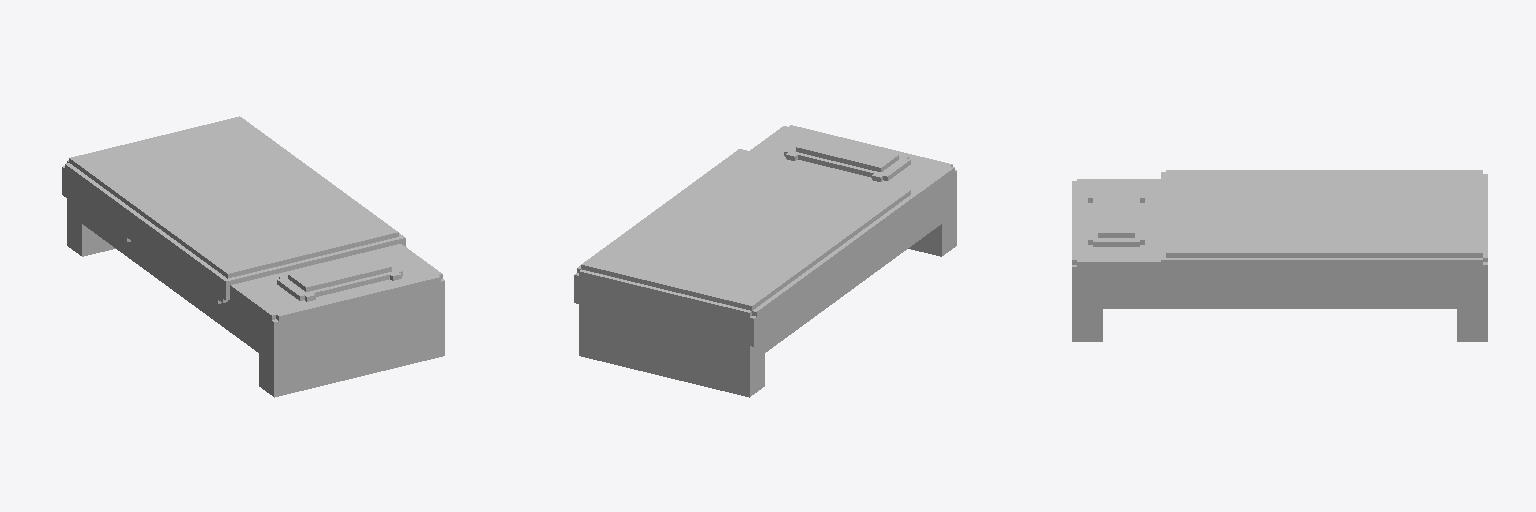
File: bed.obj
3 renders of one model, left to right at view 1: azimuth 30°, elevation 25°; view 2: azimuth 150°, elevation 25°; view 3: azimuth 270°, elevation 25°, orthographic.
Visible parts, largest first — view 1: bed; view 2: bed; view 3: bed.
Part boxes in pixels (x1,y1,x2,y2): bed: (62, 116, 444, 397); bed: (574, 125, 956, 397); bed: (1072, 170, 1487, 341).
Bounding box in the file's own units: 40 × 19 × 80.